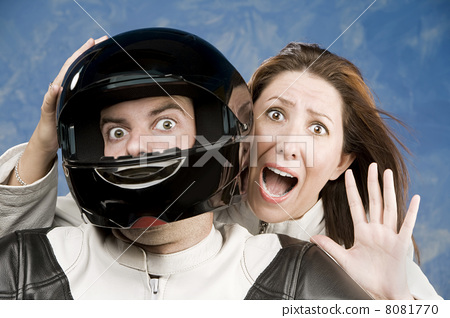helmet: (54, 48, 236, 208)
